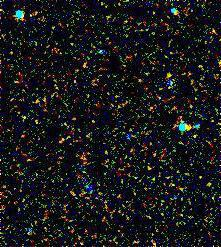star: (174, 112, 204, 142)
